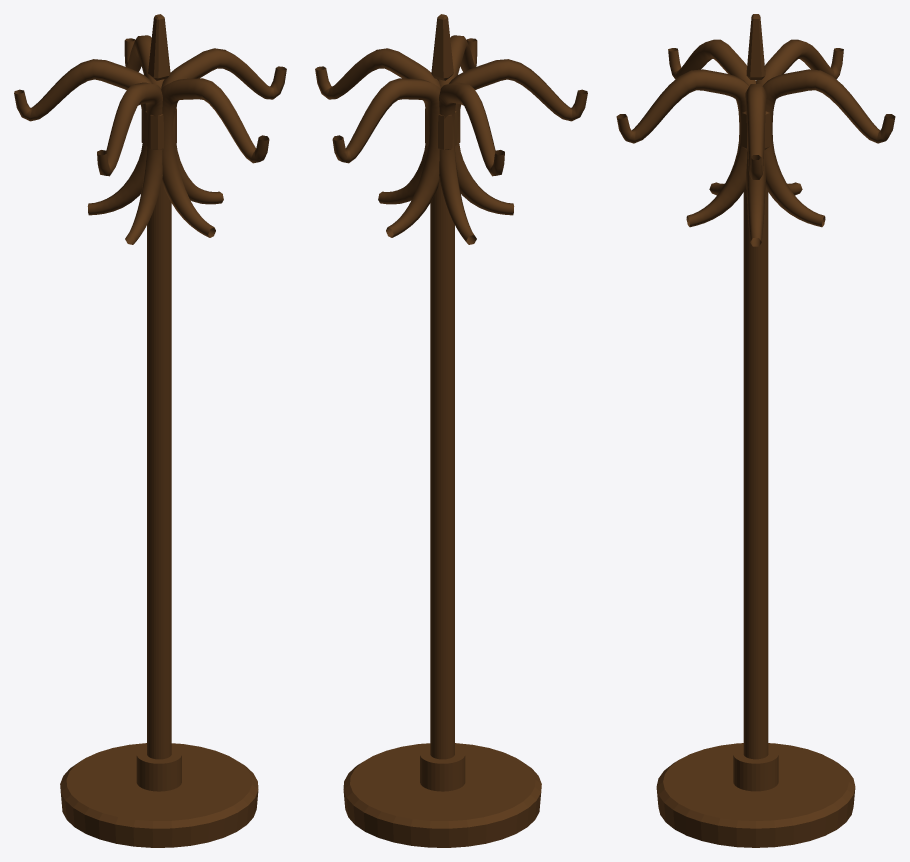
File: CoatStand01.fbx
The picture shows the model from 3 angles, left to right: view 1: azimuth 30°, elevation 25°; view 2: azimuth 150°, elevation 25°; view 3: azimuth 270°, elevation 25°; orthographic projection.
Visible parts, largest first — view 1: CoatStand01; view 2: CoatStand01; view 3: CoatStand01.
Part boxes in pixels (bbox=[...]): CoatStand01: bbox=[14, 14, 286, 847]; CoatStand01: bbox=[315, 14, 587, 847]; CoatStand01: bbox=[616, 14, 895, 847].
Size of the model in its own units: 53.15 by 175 by 55.88.
